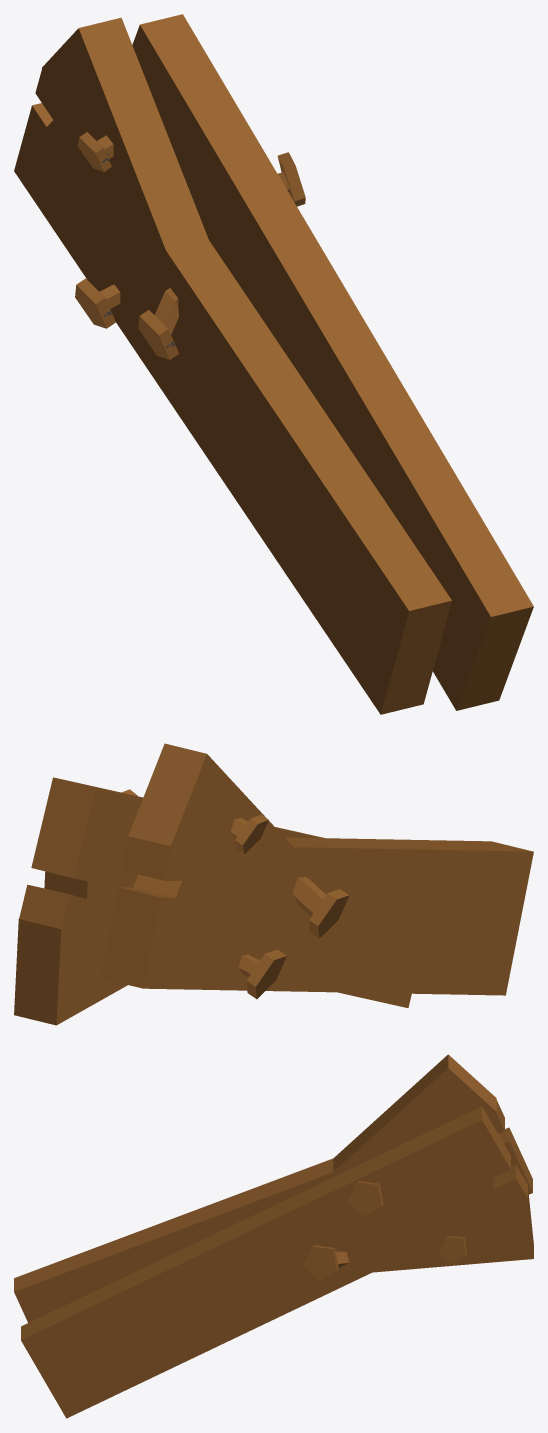
File: boards.obj
The picture shows the model from 3 angles, top to bottom: view 1: azimuth 30°, elevation 25°; view 2: azimuth 150°, elevation 25°; view 3: azimuth 270°, elevation 25°; orthographic projection. The views are drawn at different scales.
Visible parts, largest first — view 1: cube.004, cube.001, cube, cube.003, cube.002, cube.005, cube.007, Cylinder.001, Cylinder.002; view 2: cube, cube.001, cube.002, cube.003, cube.004, cube.007, cube.006, cube.005, Cylinder.002, Cylinder.001, Cylinder.005, Cylinder; view 3: cube.004, cube.005, cube.001, cube.007, cube.003, cube.002, cube.006, Cylinder.008, Cylinder.007, cube, Cylinder.006.
Part boxes in pixels (x1,y1,x2,y2): cube.004: (132,14,533,676); cube.001: (45,105,451,648); cube: (14,103,441,714); cube.003: (42,17,208,368); cube.002: (35,68,383,598); cube.005: (203,226,511,710); cube.007: (191,194,271,325); Cylinder.001: (75,278,115,328); Cylinder.002: (138,310,179,359); cube: (101,887,523,995); cube.001: (133,839,533,904); cube.002: (122,836,508,886); cube.003: (128,743,322,971); cube.004: (31,777,325,887); cube.007: (14,899,127,1025); cube.006: (19,884,386,1002); cube.005: (44,871,411,1007); Cylinder.002: (309,889,349,938); Cylinder.001: (246,949,286,999); Cylinder.005: (292,877,325,916); Cylinder: (235,814,268,854); cube.004: (21,1106,510,1389); cube.005: (50,1177,495,1418); cube.001: (14,1154,380,1321); cube.007: (309,1183,533,1272); cube.003: (322,1054,496,1182); cube.002: (47,1100,504,1296); cube.006: (87,1165,527,1387); Cylinder.008: (303,1245,338,1280); Cylinder.007: (348,1181,383,1216); cube: (28,1127,532,1322); Cylinder.006: (438,1236,467,1264).
Size of the model in its own units: 9.33 by 21.86 by 31.92.
